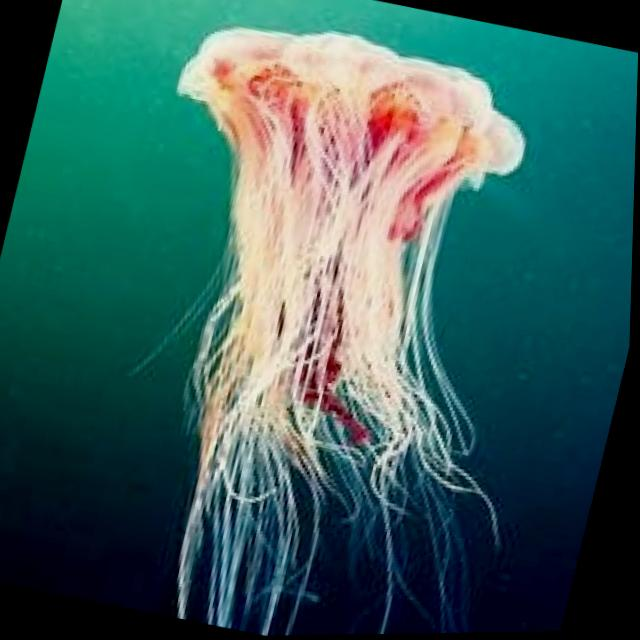Box-jellyfish: (56, 0, 621, 639)
